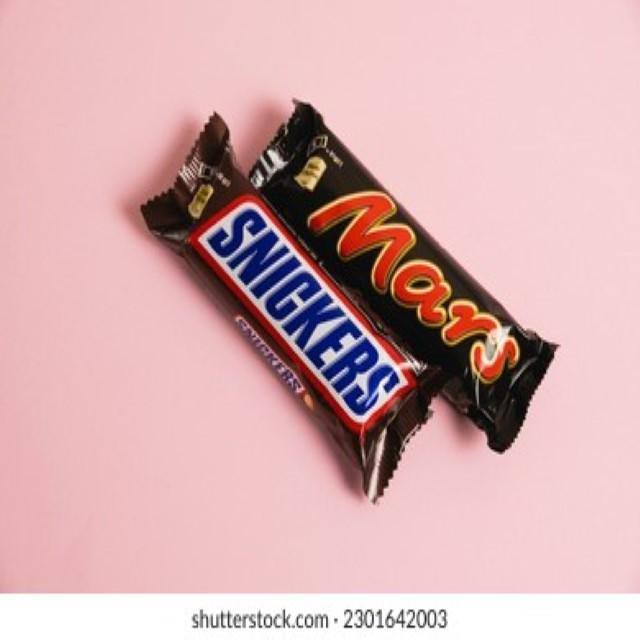mars_chocolate: (327, 143, 535, 385)
snickers_chocolate: (188, 172, 410, 455)
